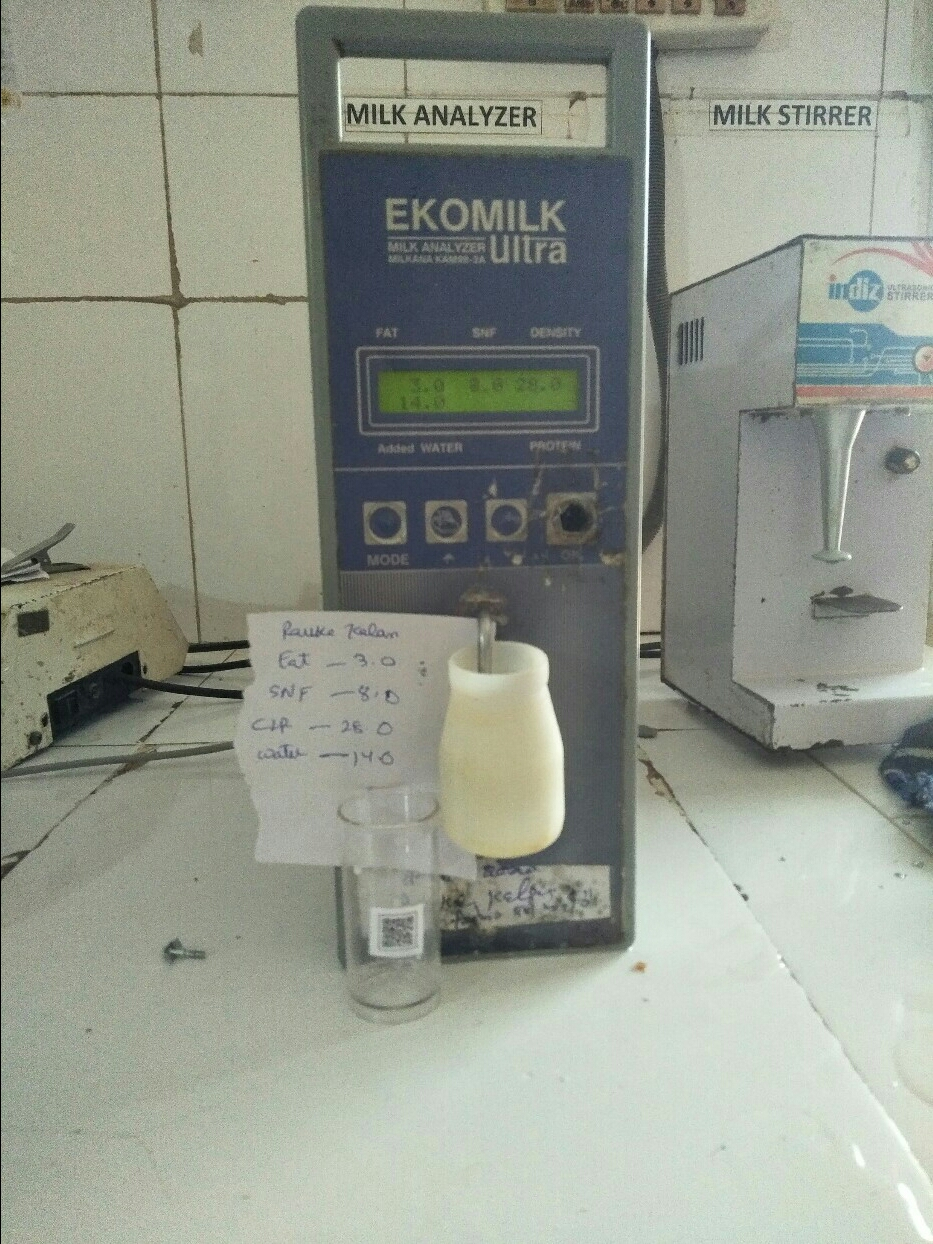lcd: (367, 357, 588, 425)
qr: (358, 901, 435, 957)
